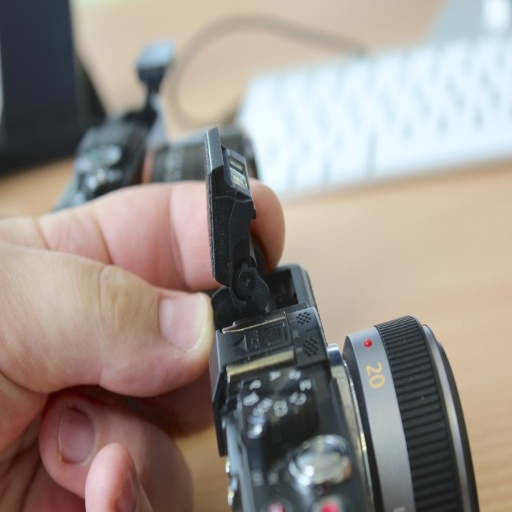hand: (0, 176, 285, 511)
